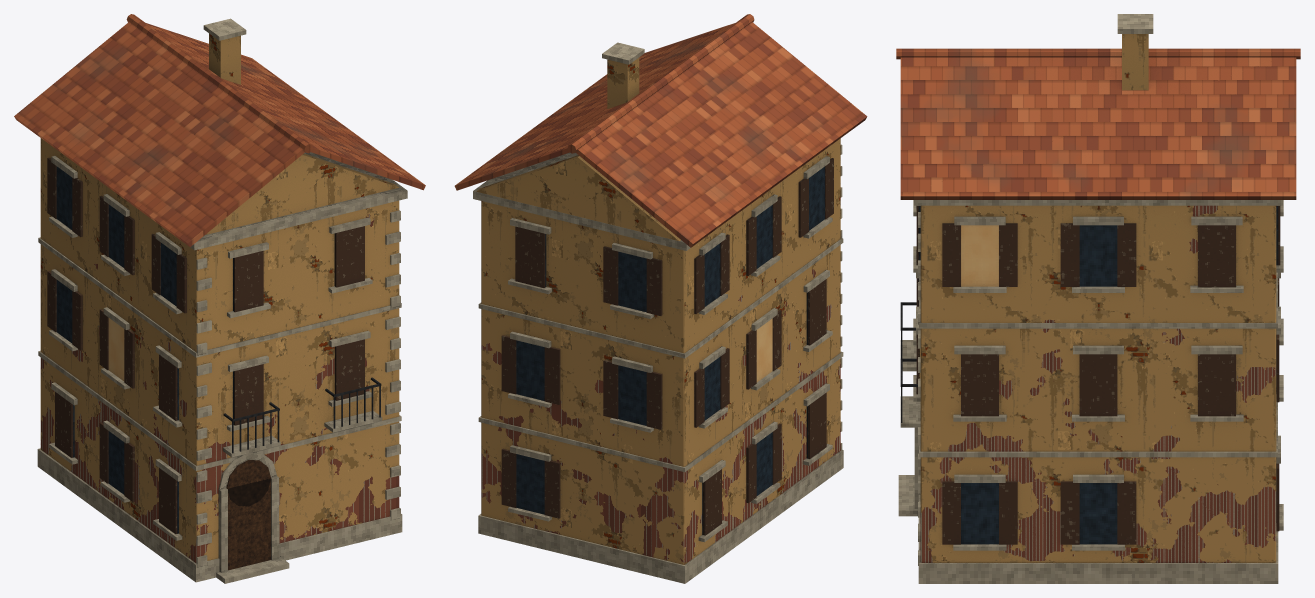
The model's file is siracusa_house_b.glb.
The picture shows the model from 3 angles, left to right: view 1: azimuth 30°, elevation 25°; view 2: azimuth 150°, elevation 25°; view 3: azimuth 270°, elevation 25°; orthographic projection. The views are drawn at different scales.
Visible parts, largest first — view 1: siracusa_house_b; view 2: siracusa_house_b; view 3: siracusa_house_b.
Boxes of the visible parts, bbox=[...] form: siracusa_house_b: bbox=[14, 14, 425, 583]; siracusa_house_b: bbox=[454, 14, 867, 583]; siracusa_house_b: bbox=[896, 14, 1300, 583].
Bounding box in the file's own units: 7.04 × 12.84 × 9.1.
8 materials, 8 textured.
